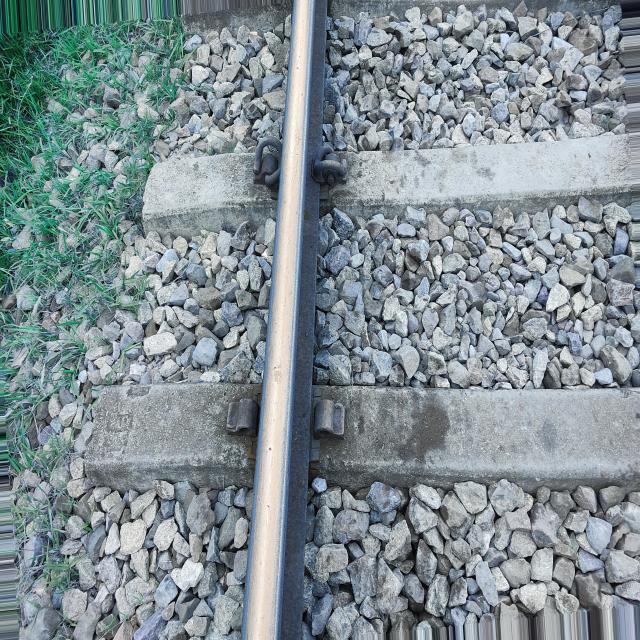Good Fasteners: (311, 143, 347, 185), (254, 137, 282, 185)
Missing Fastener: (303, 390, 364, 447), (221, 390, 270, 443)
